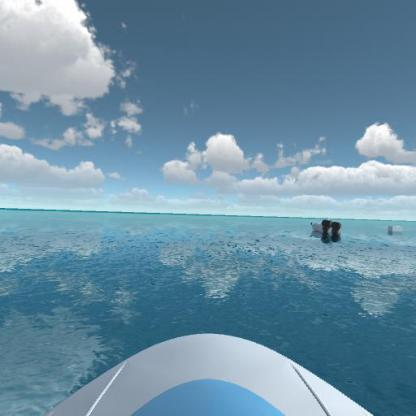usv3: (309, 213, 346, 240)
